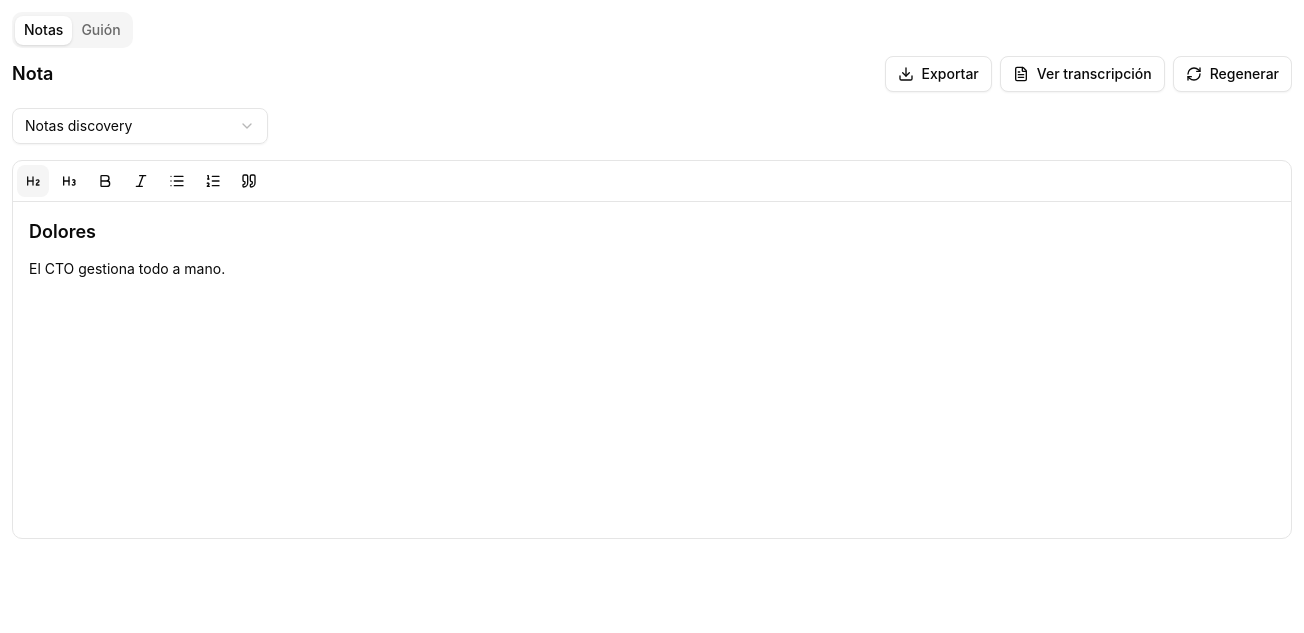
NoteScriptSections › tabs when both exist › keeps the draft and the Guardar/Descartar bar when switching tabs back and forth
expect the element showing "Notas Guión" is shown: met, box [12, 12, 133, 48]
Click the button named "Encabezado 3".
click(69, 181)  # box [53, 165, 85, 197]
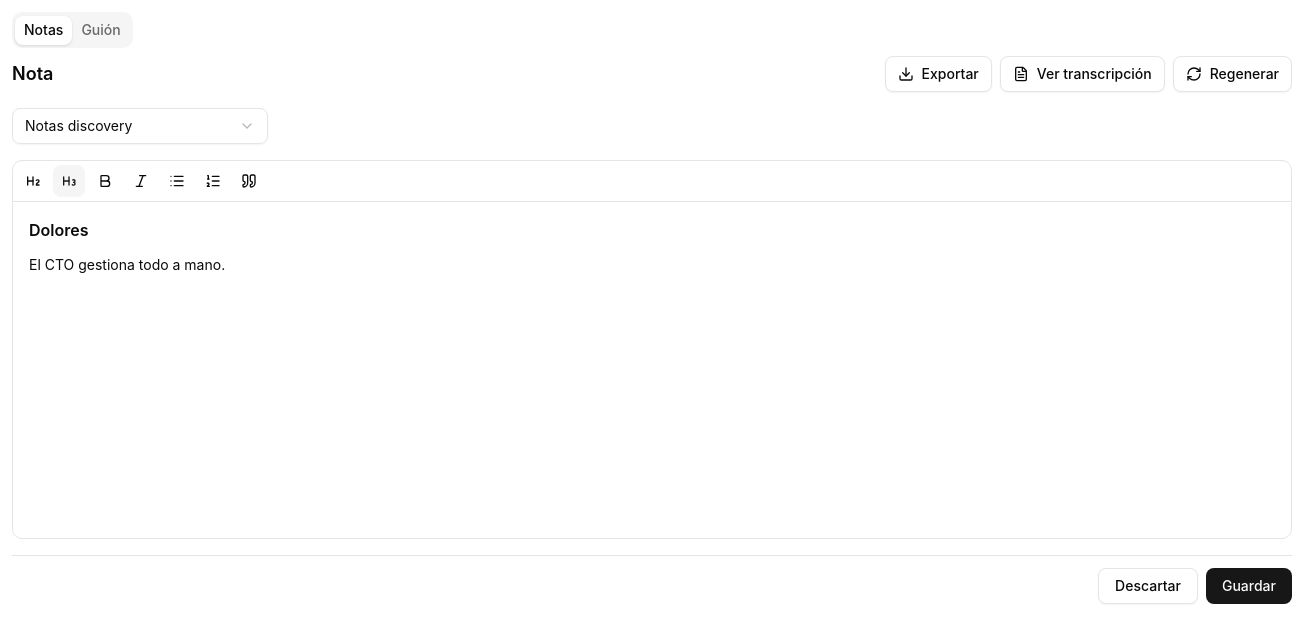
expect the heading "Dolores" is shown: met, box [29, 220, 88, 240]
expect the element with test id "note-editor-actions" is shown: met, box [12, 555, 1292, 616]
// Ir a Guión y volver: el editor sigue montado con el cambio y la barra
Click the tab "Guión".
click(101, 30)  # box [72, 16, 130, 44]
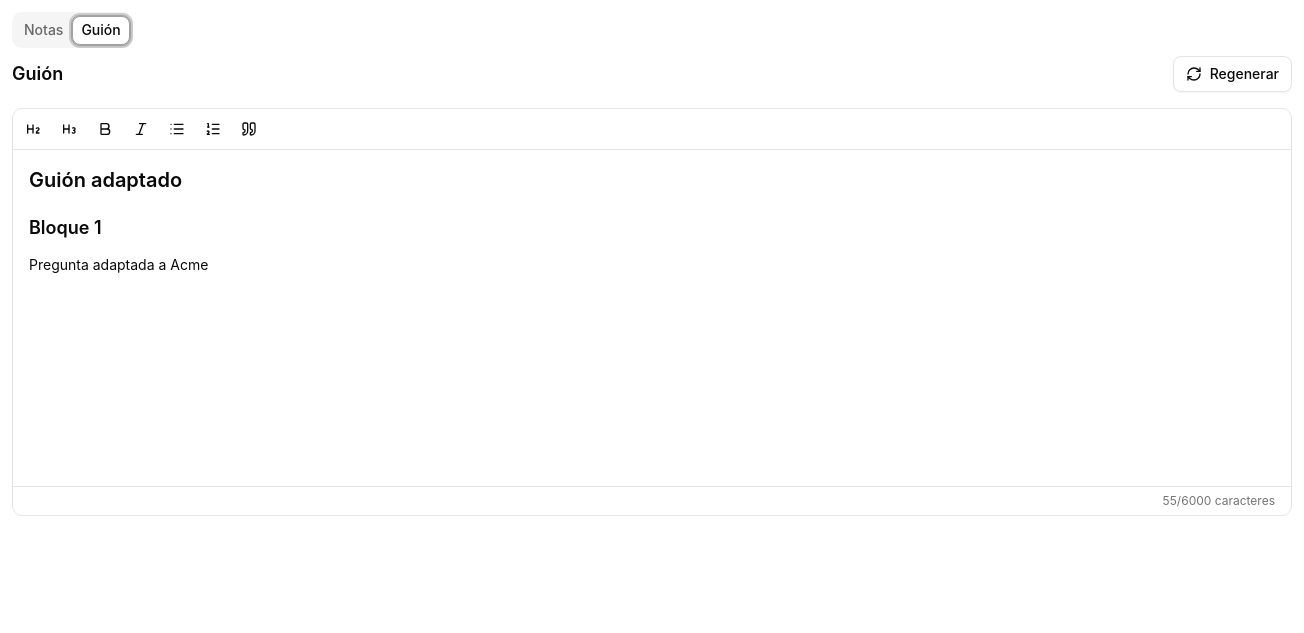
Click the tab "Notas".
click(44, 30)  # box [15, 16, 72, 44]
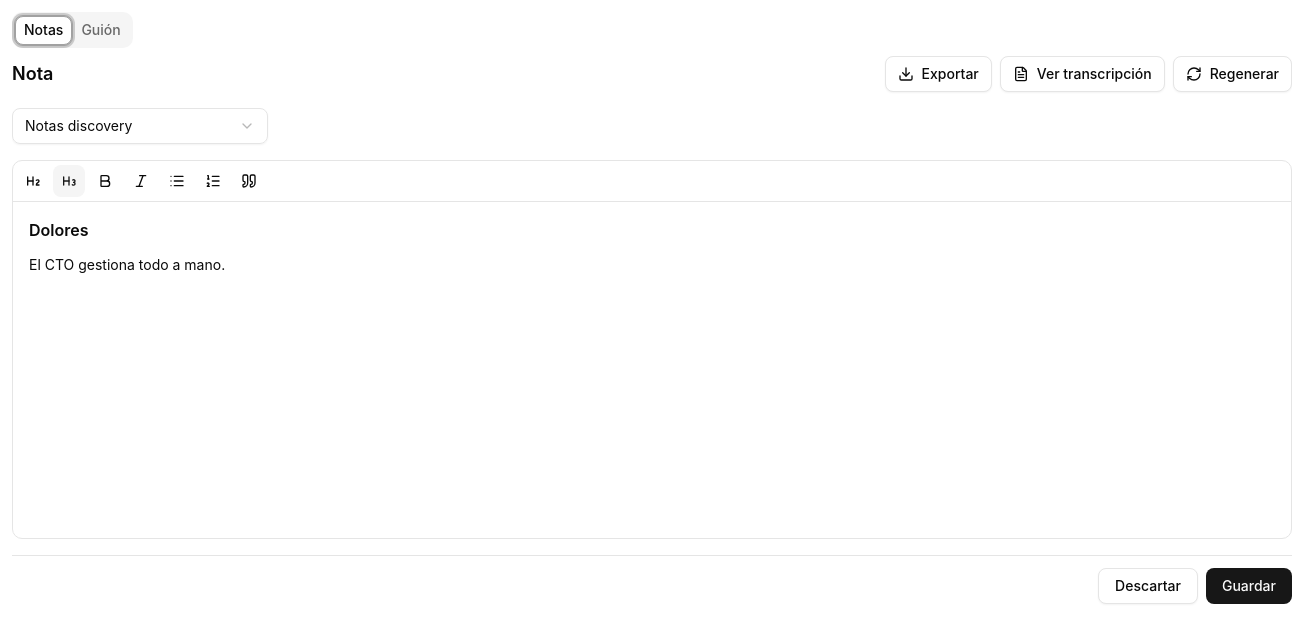
expect the element with test id "note-markdown-editor" is shown: met, box [12, 160, 1292, 539]
expect the heading "Dolores" is shown: met, box [29, 220, 88, 240]
expect the button "Guardar" is shown: met, box [1206, 568, 1292, 604]
